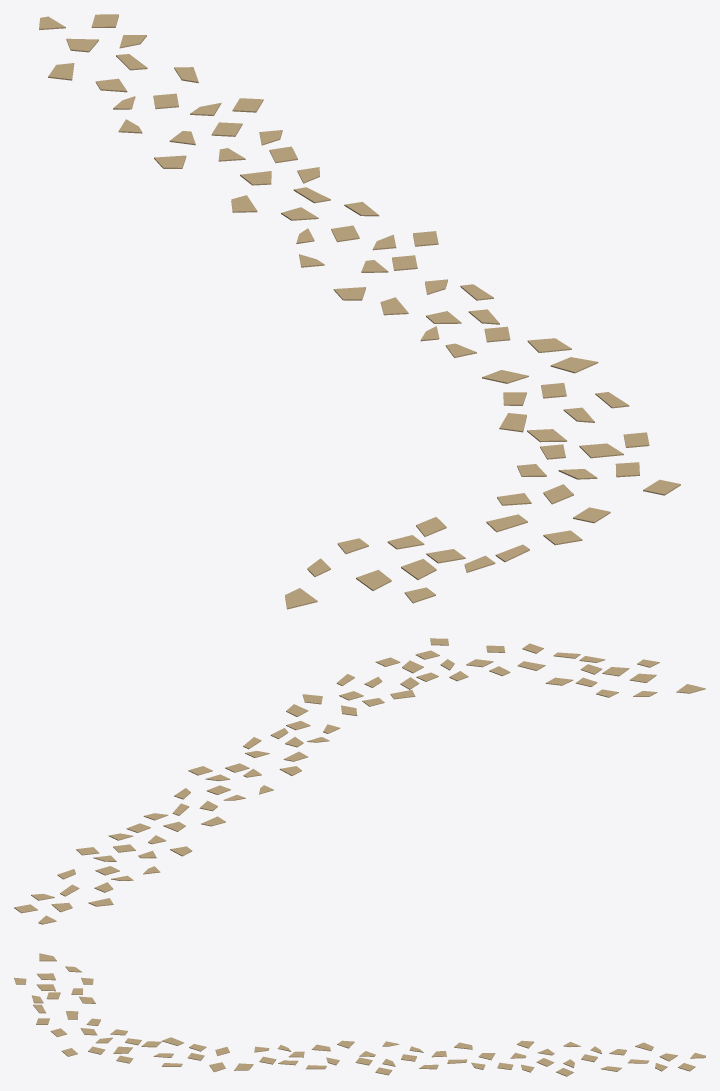
Rendered from Piastrele_low.fbx.
3 views of the same model, one above another, from view 1: azimuth 30°, elevation 25°; view 2: azimuth 150°, elevation 25°; view 3: azimuth 270°, elevation 25° (orthographic). The views are drawn at different scales.
Parts seen in each view (by area): view 1: Piastrella_low; view 2: Piastrella_low; view 3: Piastrella_low.
Part boxes in pixels (x1,y1,x2,y2): Piastrella_low: (39, 14, 680, 609); Piastrella_low: (14, 638, 705, 924); Piastrella_low: (14, 953, 705, 1076).
Size of the model in its own units: 16.41 by 0.0644 by 39.03.
